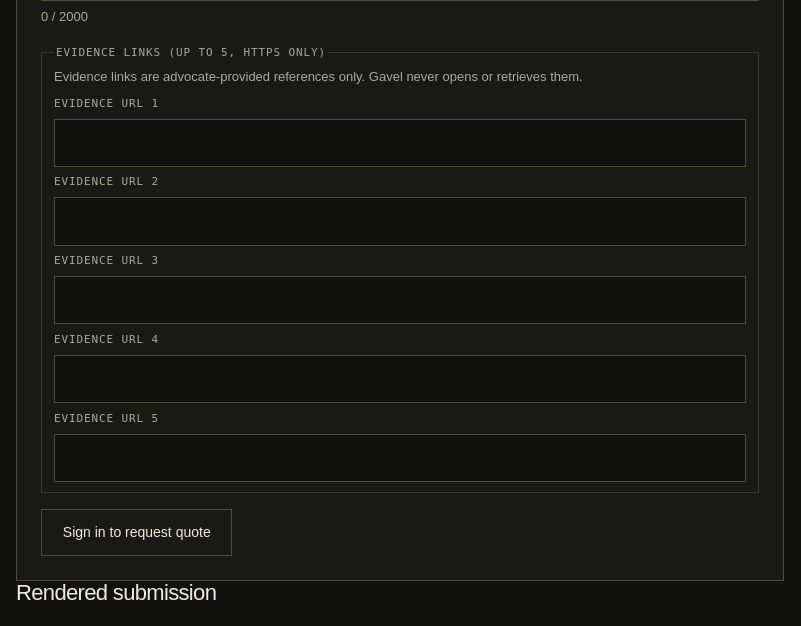
Test: SubmissionComposer payer sign-in (staging regression) › rejects a wrong-wallet challenge before signing and keeps Request quote disabled
(page scrolled)
Click the button "Sign in to request quote" at (137, 532), box [41, 509, 232, 556]
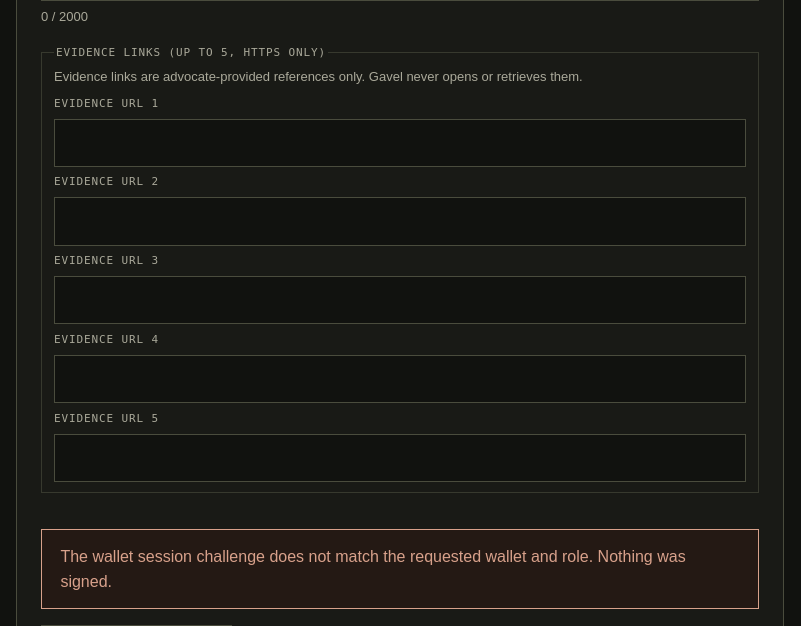
Expected: the message shows "challenge does not match", [60, 548, 686, 590]
